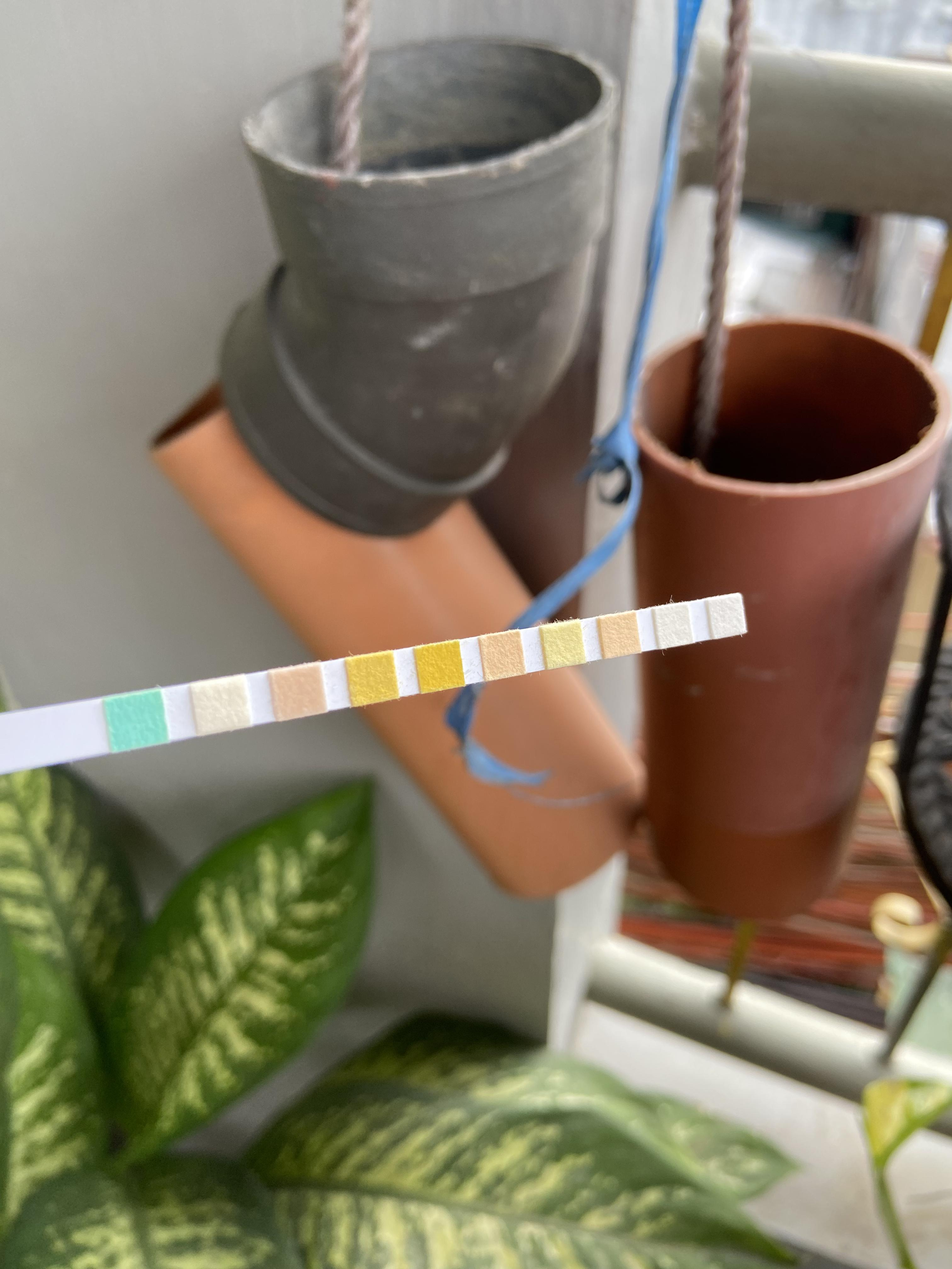Bilirubin: (199, 685, 245, 727)
Blood: (422, 648, 457, 686)
Glucose: (115, 700, 161, 741)
Ketone: (280, 674, 320, 713)
Leukocytes: (716, 599, 739, 634)
Nitrite: (662, 607, 687, 643)
Protein: (550, 627, 579, 663)
SpGravity: (356, 660, 391, 698)
Urobilinogen: (607, 619, 635, 653)
pH: (489, 637, 521, 674)
strip: (4, 595, 747, 774)
